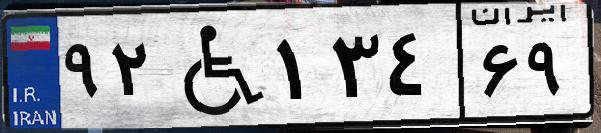1: (270, 28, 330, 110)
2: (110, 28, 158, 98)
3: (330, 28, 385, 110)
4: (385, 28, 445, 110)
6: (475, 38, 525, 113)
9: (57, 26, 110, 100), (525, 38, 570, 115)
ژ (معلولین و جانبازان): (158, 12, 270, 120)
